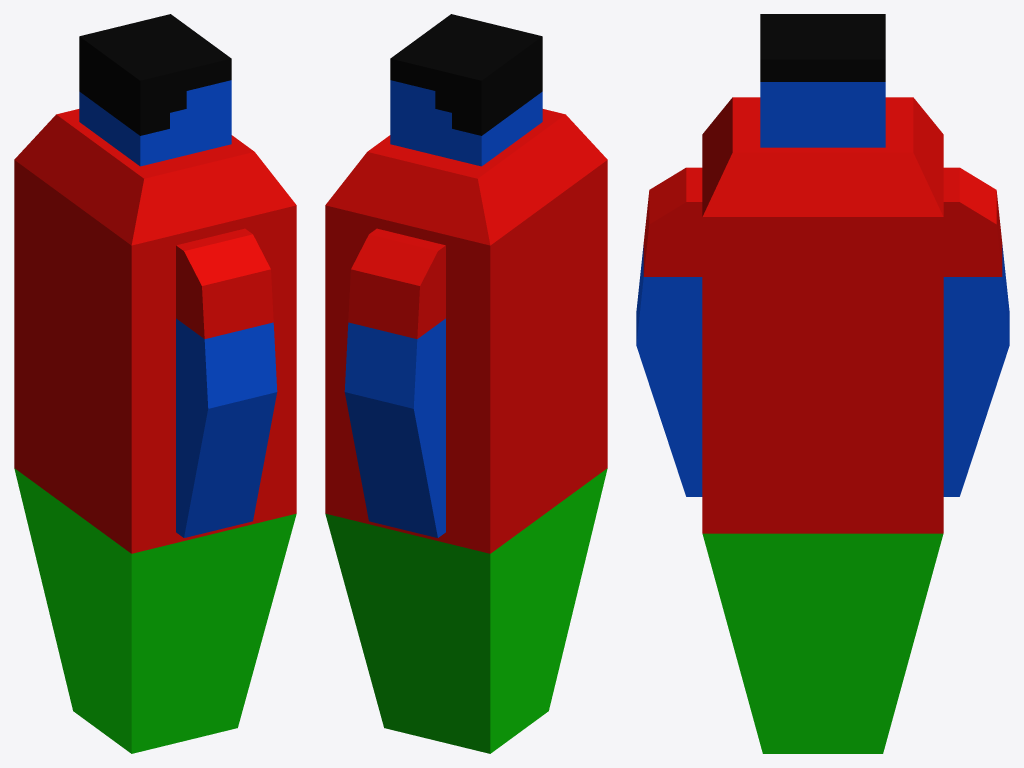
Rendered from Goalie.fbx.
3 renders of one model, left to right at view 1: azimuth 30°, elevation 25°; view 2: azimuth 150°, elevation 25°; view 3: azimuth 270°, elevation 25°, orthographic. The views are drawn at different scales.
Parts seen in each view (by area): view 1: Cube; view 2: Cube; view 3: Cube.
Boxes of the visible parts, x1,y1,x2,y2 form: Cube: (14, 14, 296, 753); Cube: (325, 14, 607, 753); Cube: (636, 14, 1009, 753).
Bounding box in the file's own units: 129 × 501 × 245.
